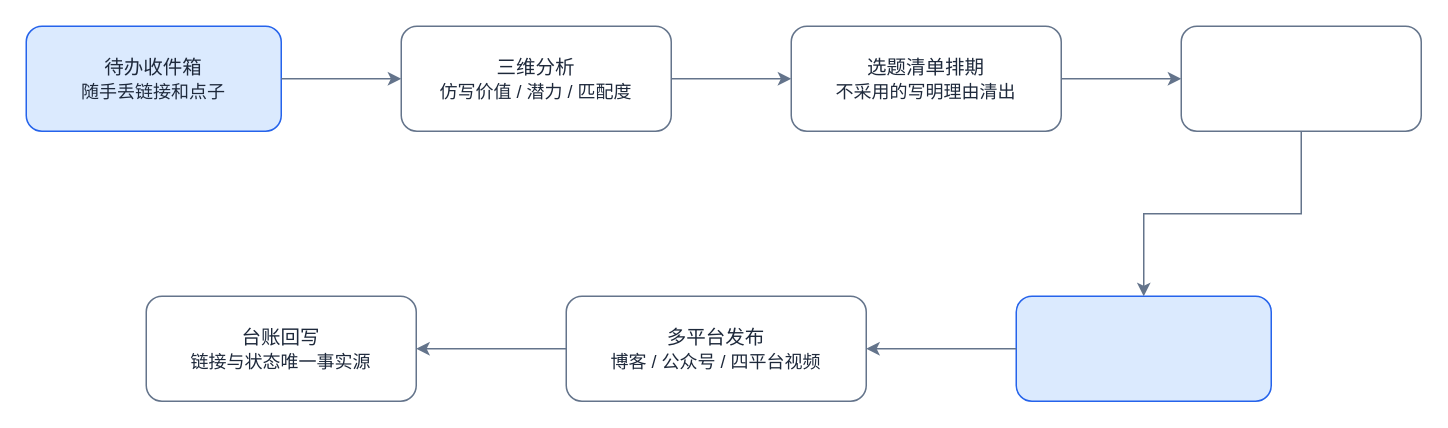
The diagram is 1448 pixels wide and 428 high, and some of its shapes have lost their labels. Here are the shapes that lost their labels. From the top down, the centre of each, then its label:
the point at 1300,78: skill 成稿 按博客规范九步走
the point at 1143,348: 人工确认门禁 不确认不发布
